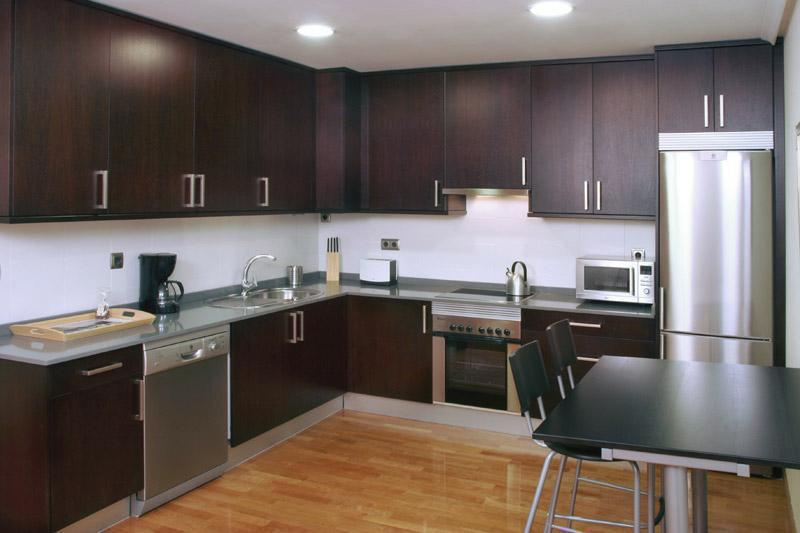Electrodomestico: (659, 148, 776, 363), (143, 335, 230, 479), (431, 292, 521, 418)
Lavaplatos: (222, 250, 321, 318)
